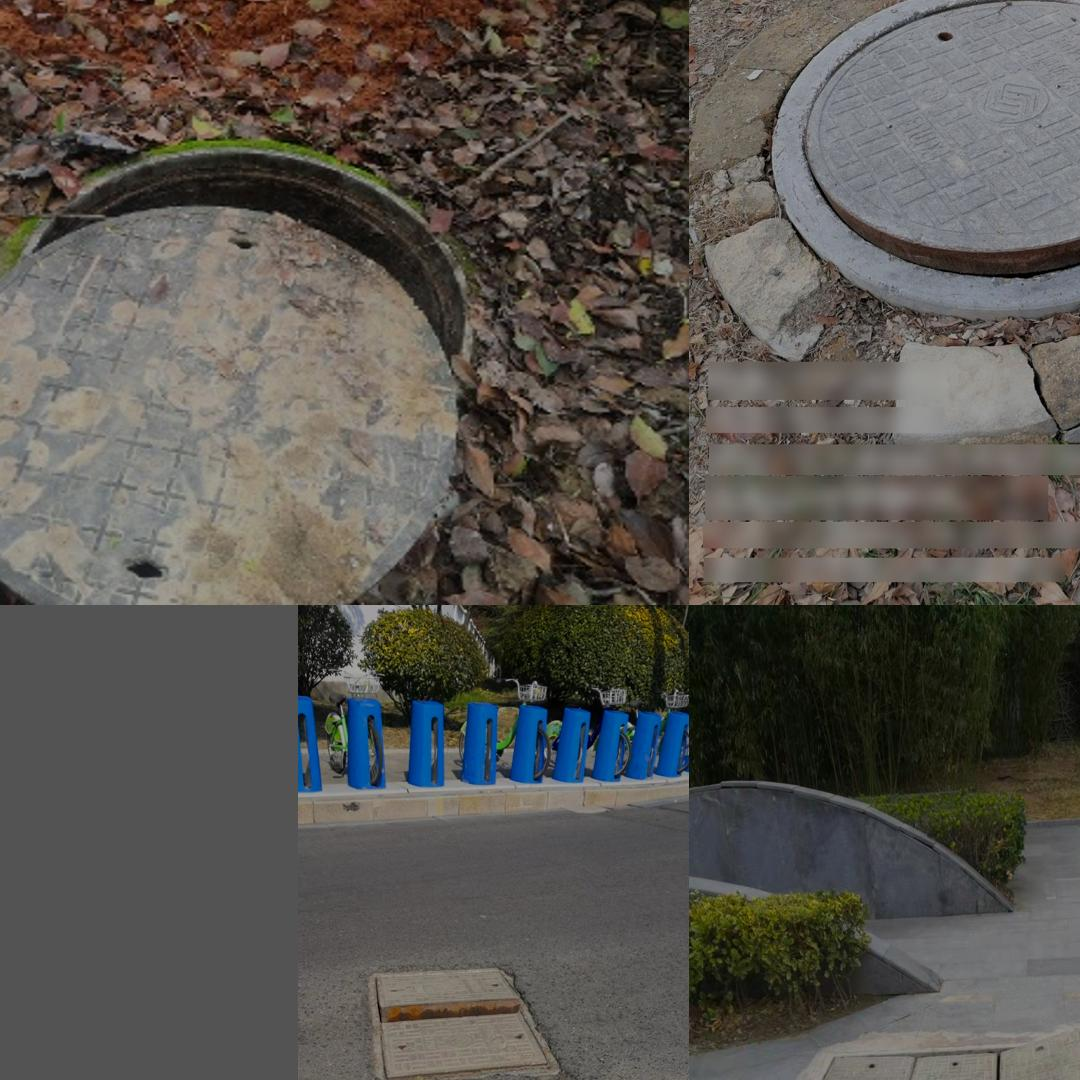uncovered: (0, 134, 479, 605), (769, 0, 1080, 318), (365, 966, 558, 1080), (759, 1032, 1080, 1080)
